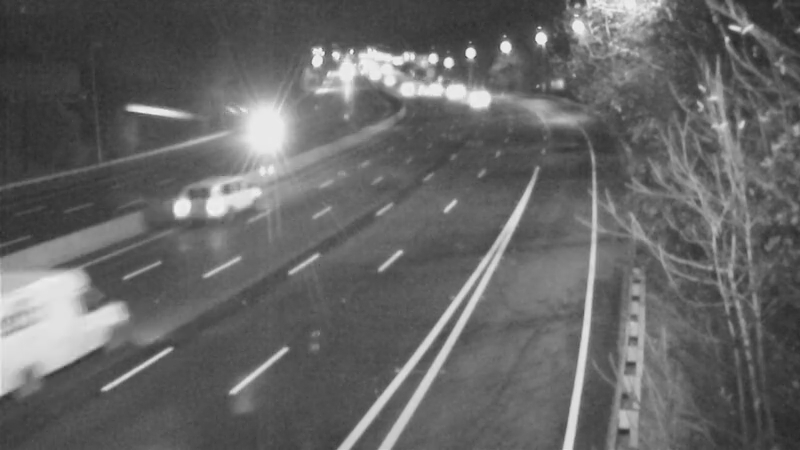vehicle: (1, 281, 106, 391), (184, 158, 264, 238), (410, 66, 460, 116), (430, 68, 480, 118), (453, 74, 503, 124), (235, 111, 285, 161)
